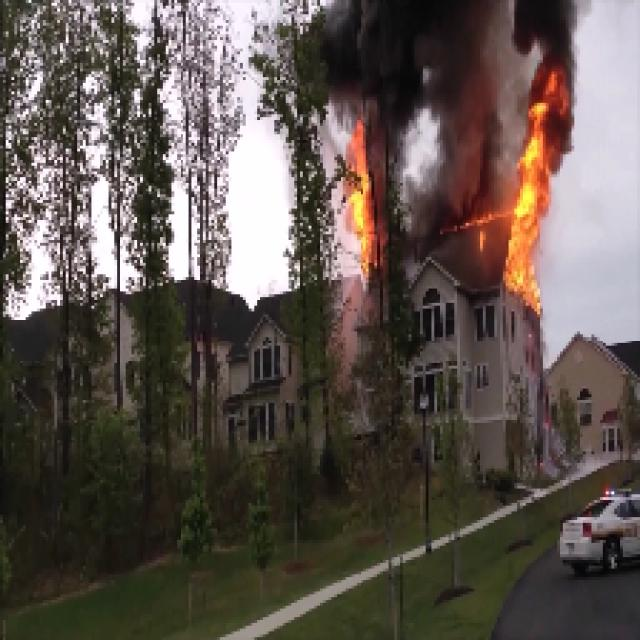fire: (509, 114, 554, 309)
smoke: (366, 5, 506, 224), (518, 0, 575, 55)
